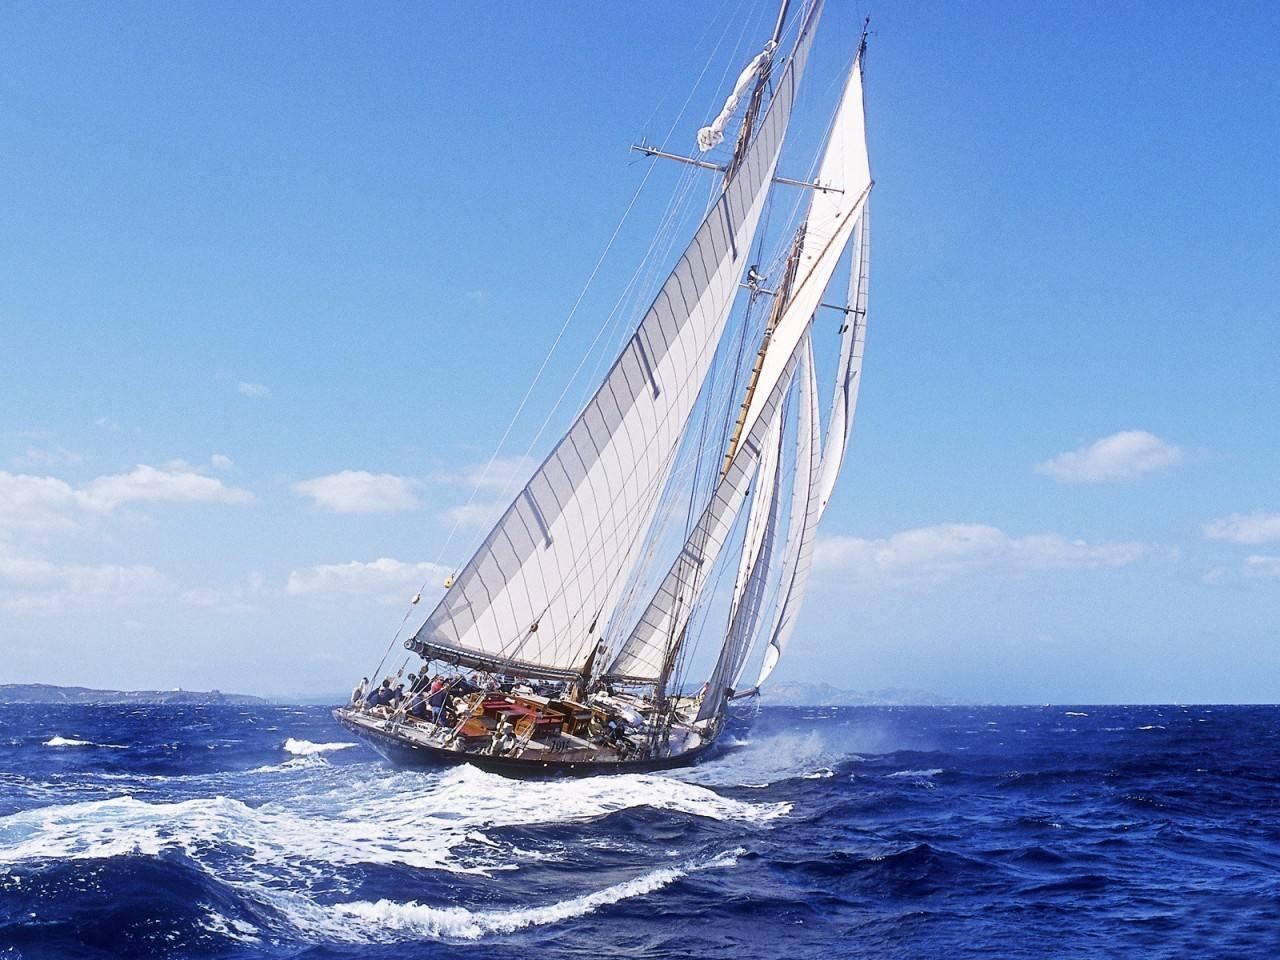fanchuan: (325, 1, 884, 785)
